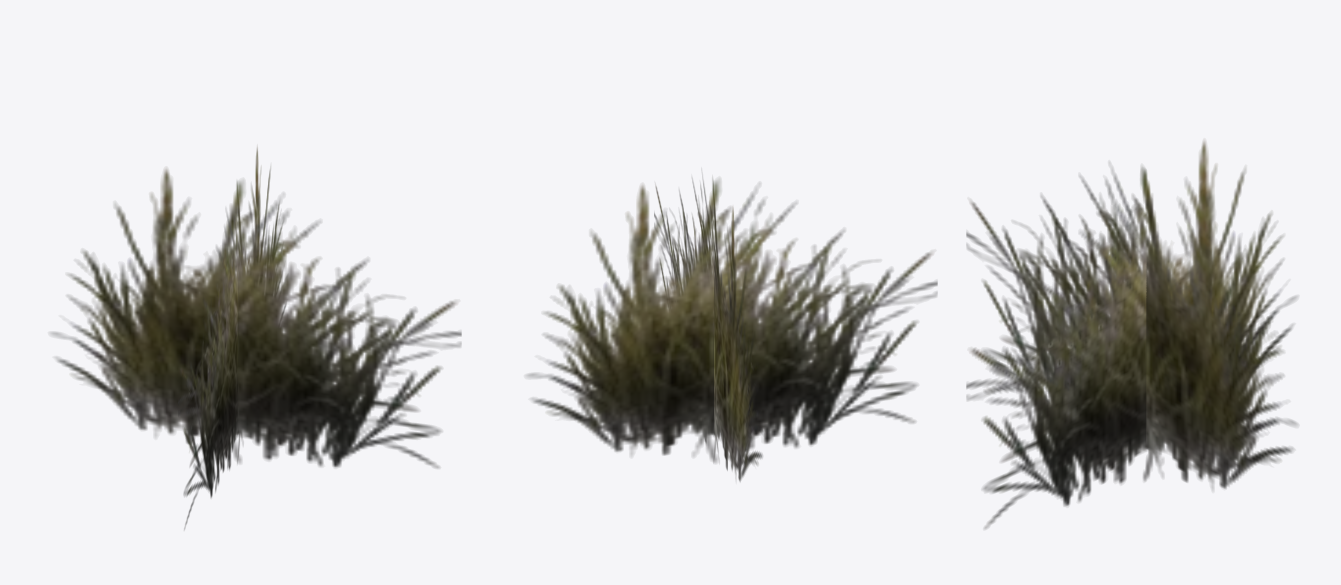
Rendered from forest-road-understory.glb.
3 renders of one model, left to right at view 1: azimuth 30°, elevation 25°; view 2: azimuth 150°, elevation 25°; view 3: azimuth 270°, elevation 25°, orthographic. The views are drawn at different scales.
Visible parts, largest first — view 1: Plane599; view 2: Plane599; view 3: Plane599.
Part boxes in pixels (box(x1,y1,x2,y2)): Plane599: box(50, 147, 461, 529); Plane599: box(526, 175, 937, 481); Plane599: box(966, 141, 1297, 528).
Size of the model in its own units: 1.78 by 2.2 by 1.78.
1 material, 1 textured.
